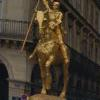Statue: (19, 3, 73, 98)
